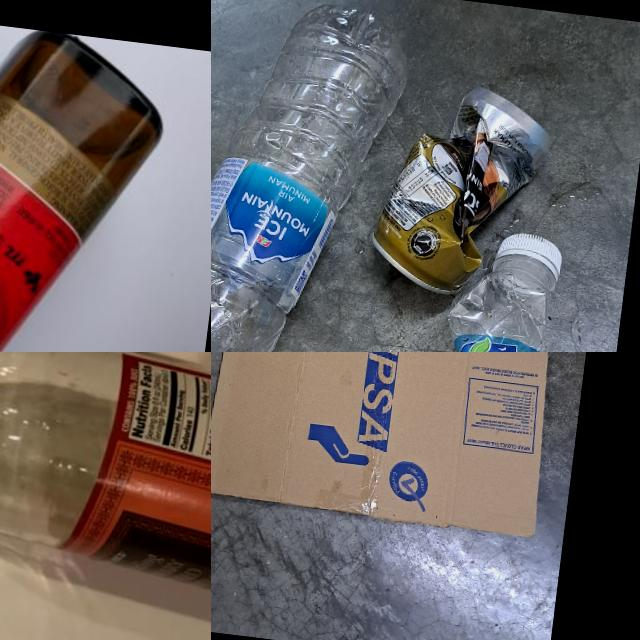garrafa de vidro: (0, 0, 176, 352), (0, 352, 211, 588)
garrafa plástica: (211, 0, 407, 352), (403, 267, 567, 352)
lata: (366, 70, 552, 314)
papelão: (211, 352, 592, 555)
tampa plástica: (491, 228, 566, 294)
